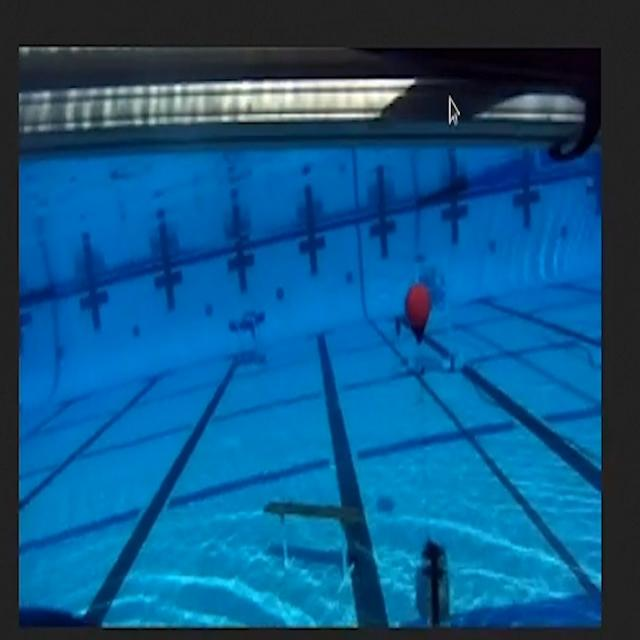Buoy: (397, 277, 436, 348)
